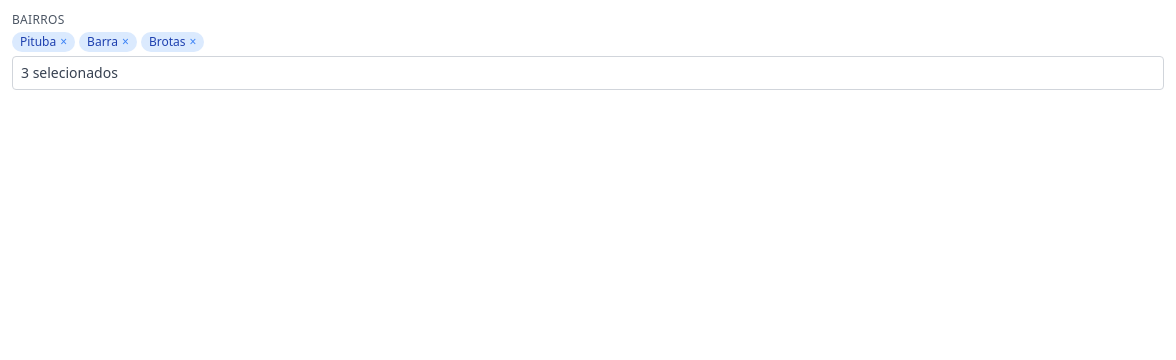
Test: MultiSelect › exibe aviso quando atingiu o máximo
Click the button "3 selecionados" at (69, 72), box [12, 56, 1164, 90]
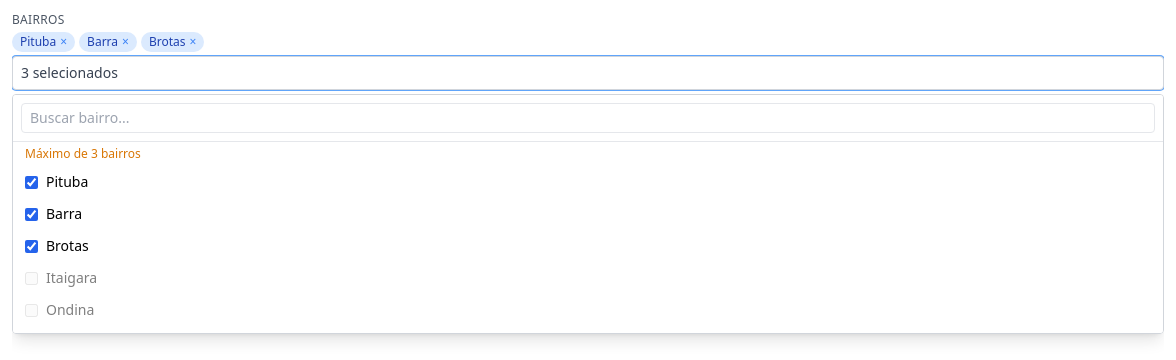
Now the text "Máximo de 3 bairros" is shown, box [25, 145, 141, 162]
